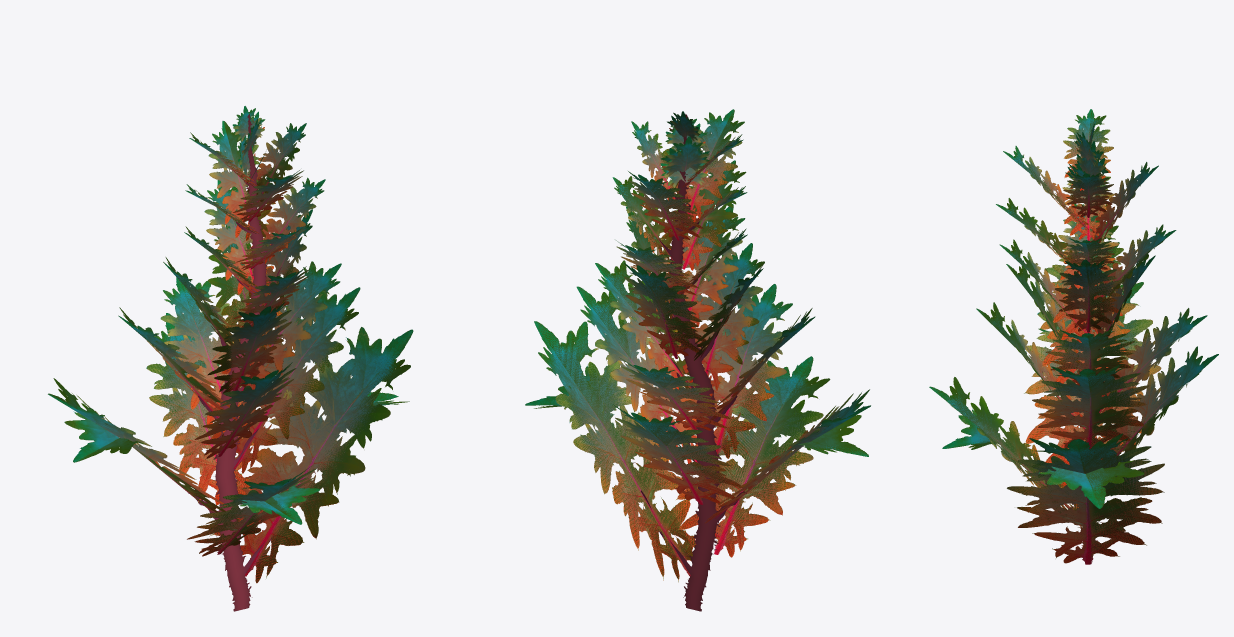
The model's file is Foil Leaf 3.fbx.
The picture shows the model from 3 angles, left to right: view 1: azimuth 30°, elevation 25°; view 2: azimuth 150°, elevation 25°; view 3: azimuth 270°, elevation 25°; orthographic projection. The views are drawn at different scales.
Parts seen in each view (by area): view 1: Foil Leaf 3; view 2: Foil Leaf 3; view 3: Foil Leaf 3.
Boxes of the visible parts, bbox=[...] form: Foil Leaf 3: bbox=[48, 106, 413, 611]; Foil Leaf 3: bbox=[525, 109, 870, 611]; Foil Leaf 3: bbox=[929, 109, 1218, 564].
Bounding box in the file's own units: 104 × 158 × 74.96.
